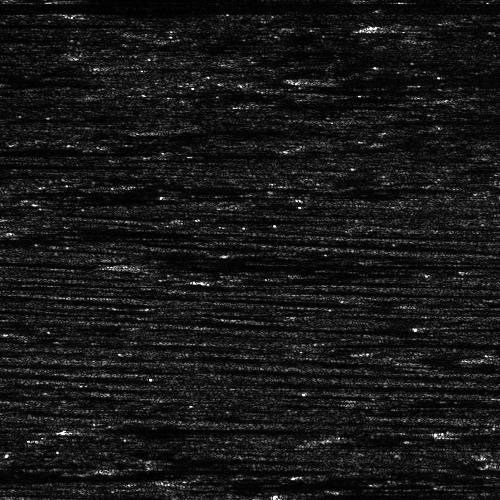rock: (310, 19, 487, 36), (141, 472, 256, 489), (59, 461, 142, 478), (396, 426, 500, 437), (178, 142, 219, 161), (0, 457, 66, 468), (0, 144, 54, 157), (124, 454, 165, 467), (319, 117, 402, 122), (172, 127, 203, 130)
shadow: (101, 461, 470, 478), (199, 472, 457, 489), (0, 457, 285, 468), (145, 454, 330, 467), (0, 144, 139, 157), (399, 19, 500, 36), (199, 142, 260, 161), (0, 471, 77, 484), (361, 117, 490, 122), (0, 162, 138, 165), (188, 127, 312, 130)
